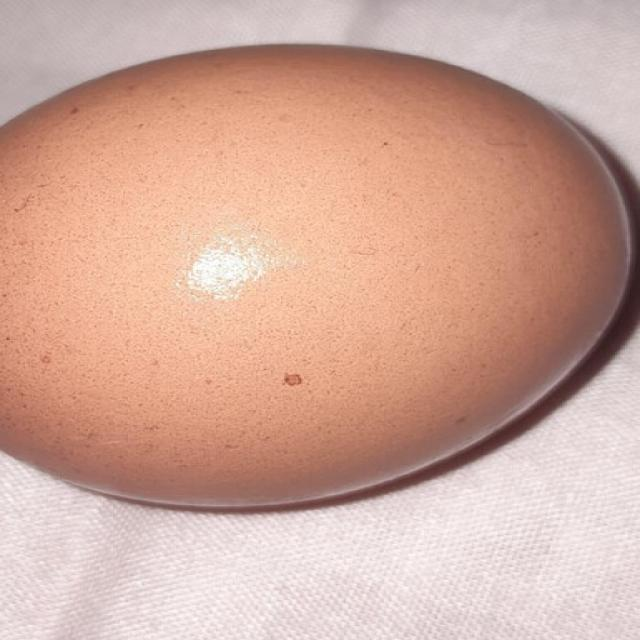unfresh: (0, 23, 628, 521)
